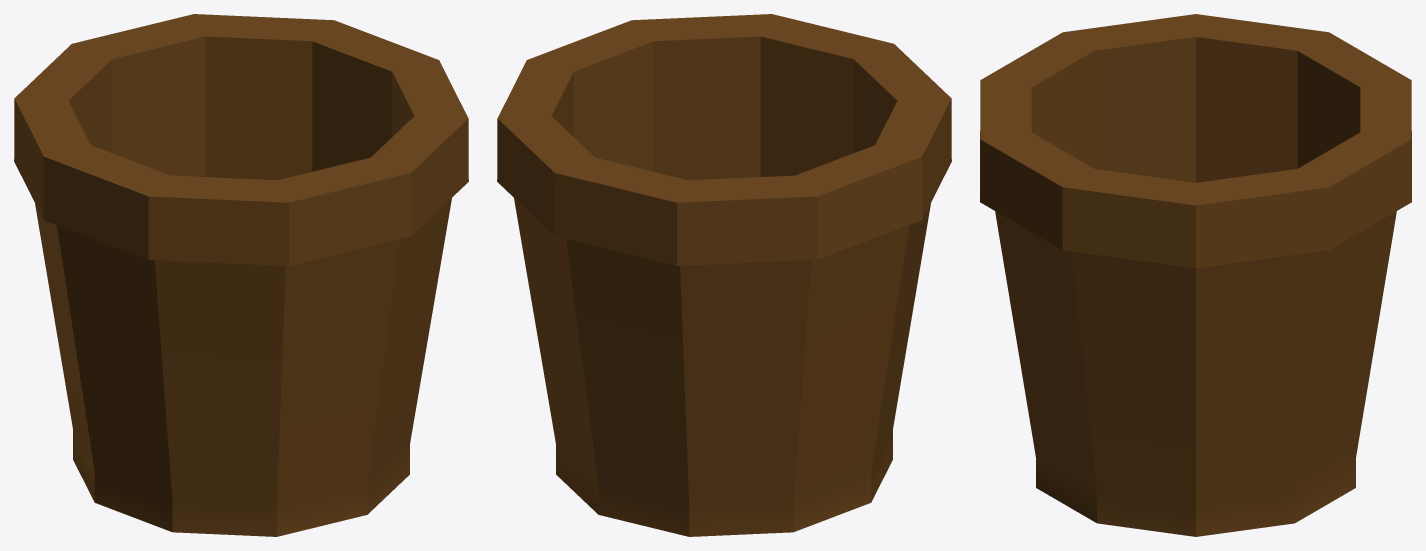
Rendered from Flowerpot.fbx.
3 views of the same model, side by side, from view 1: azimuth 30°, elevation 25°; view 2: azimuth 150°, elevation 25°; view 3: azimuth 270°, elevation 25° (orthographic).
Visible parts, largest first — view 1: pCylinder1; view 2: pCylinder1; view 3: pCylinder1.
Part boxes in pixels (left/top/right/bottom): pCylinder1: left=14, top=14, right=468, bottom=536; pCylinder1: left=497, top=14, right=951, bottom=536; pCylinder1: left=980, top=14, right=1411, bottom=536.
Bounding box in the file's own units: 40.46 × 35.01 × 38.48.
